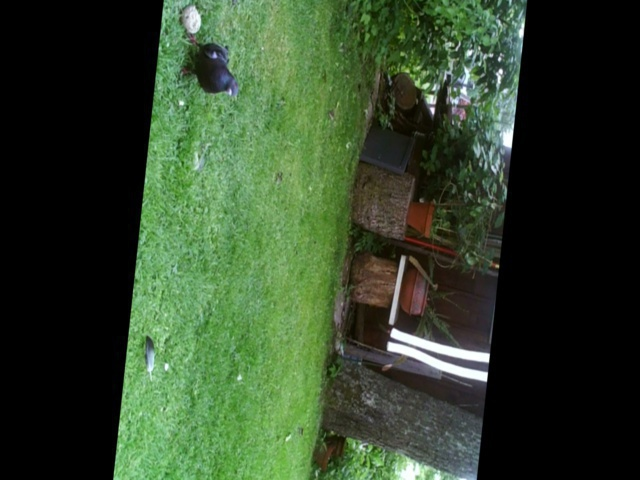Pigeon: (173, 33, 244, 104)
